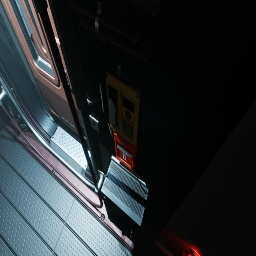EmergencyPhone ,: (97, 52, 142, 146)
FireAlarm ,: (114, 132, 137, 171)
